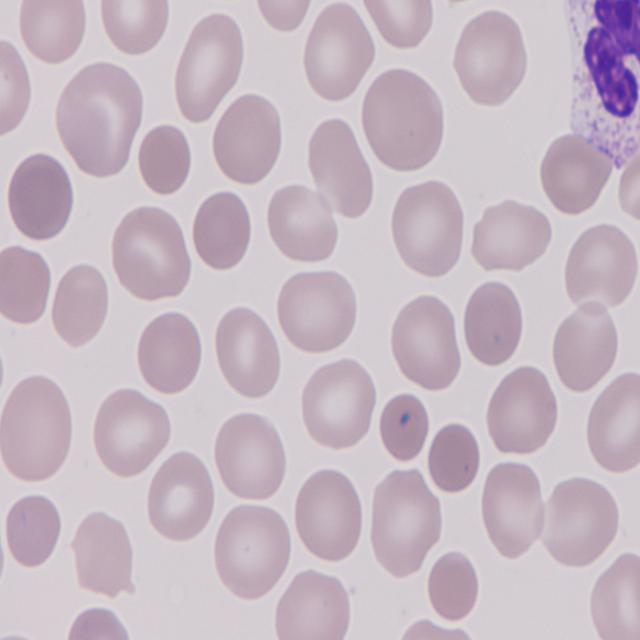RBC: (58, 61, 146, 178), (361, 67, 448, 177), (106, 202, 192, 310), (366, 466, 446, 580), (171, 9, 246, 128), (212, 501, 294, 604), (0, 374, 78, 482), (387, 178, 467, 280), (386, 290, 464, 394), (274, 263, 359, 358), (89, 385, 174, 480), (451, 8, 528, 112), (305, 112, 375, 226), (298, 356, 377, 456), (213, 405, 292, 505), (485, 359, 562, 460), (290, 466, 366, 568), (541, 474, 619, 571), (301, 4, 374, 107), (144, 448, 218, 549), (478, 457, 550, 560), (211, 88, 286, 186), (212, 307, 286, 402), (262, 180, 340, 268), (564, 220, 640, 309), (551, 304, 620, 397), (69, 504, 138, 596), (538, 133, 610, 221), (460, 279, 528, 371), (470, 198, 552, 274), (136, 308, 205, 398), (584, 368, 640, 470), (273, 568, 352, 640), (49, 264, 114, 350), (0, 238, 56, 328), (3, 491, 64, 568), (17, 0, 86, 65), (94, 0, 173, 55), (590, 553, 639, 640), (361, 0, 437, 54), (0, 34, 34, 142), (250, 0, 314, 33)
Spherocyte: (4, 151, 76, 246), (188, 187, 254, 279), (134, 119, 193, 198), (426, 546, 484, 624), (376, 391, 434, 468), (427, 422, 482, 497)
WBC: (538, 0, 640, 186)
